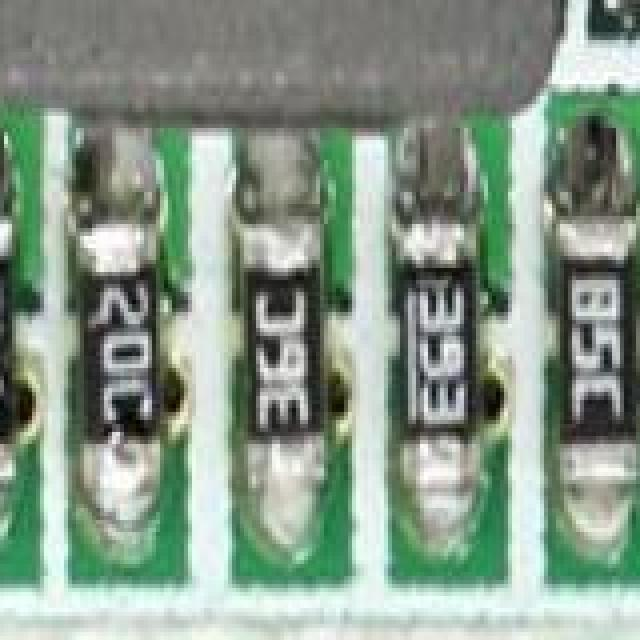inductor: (0, 0, 576, 124)
resistor: (232, 184, 336, 534), (548, 164, 640, 540), (72, 180, 162, 520), (396, 176, 480, 500), (0, 172, 20, 536), (632, 0, 640, 36)
